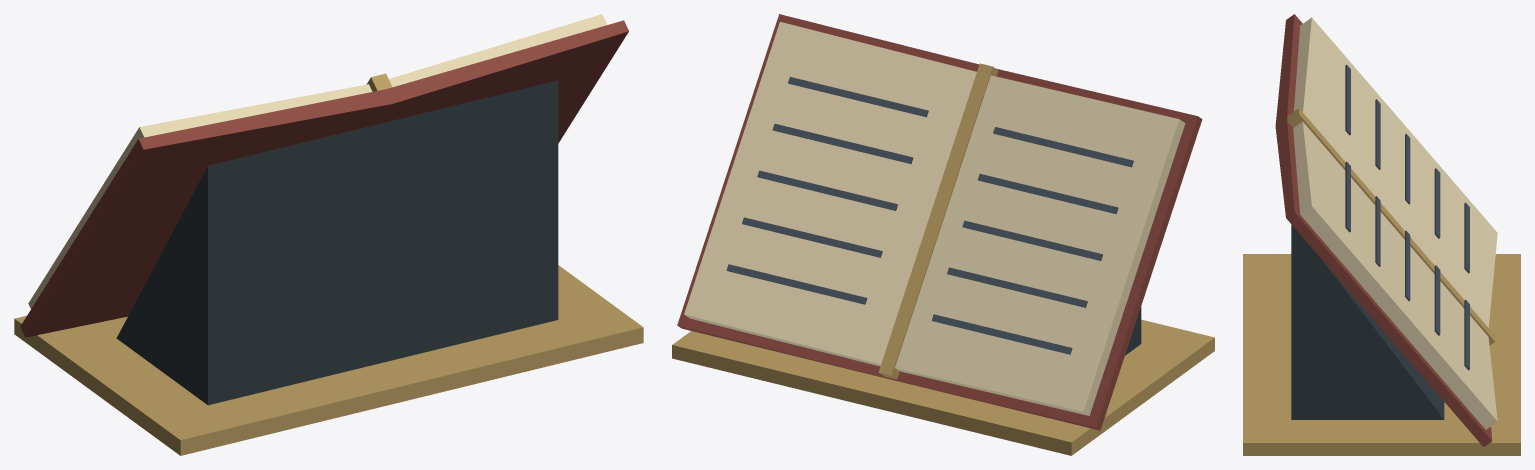
File: VIC_H05_OPEN_CHARTER_Roblox.fbx
3 renders of one model, left to right at view 1: azimuth 30°, elevation 25°; view 2: azimuth 150°, elevation 25°; view 3: azimuth 270°, elevation 25°, orthographic. The views are drawn at different scales.
Visible parts, largest first — view 1: VIC_H05_OPEN_CHARTER__Charcoal.001, VIC_H05_OPEN_CHARTER__Oxblood.001, VIC_H05_OPEN_CHARTER__Brass.001, VIC_H05_OPEN_CHARTER__Paper.001; view 2: VIC_H05_OPEN_CHARTER__Paper.001, VIC_H05_OPEN_CHARTER__Brass.001, VIC_H05_OPEN_CHARTER__Oxblood.001, VIC_H05_OPEN_CHARTER__Ink.001; view 3: VIC_H05_OPEN_CHARTER__Paper.001, VIC_H05_OPEN_CHARTER__Brass.001, VIC_H05_OPEN_CHARTER__Charcoal.001, VIC_H05_OPEN_CHARTER__Oxblood.001, VIC_H05_OPEN_CHARTER__Ink.001.
Part boxes in pixels (bbox=[...]): VIC_H05_OPEN_CHARTER__Charcoal.001: bbox=[116, 80, 558, 405]; VIC_H05_OPEN_CHARTER__Oxblood.001: bbox=[20, 20, 628, 337]; VIC_H05_OPEN_CHARTER__Brass.001: bbox=[14, 73, 643, 455]; VIC_H05_OPEN_CHARTER__Paper.001: bbox=[28, 14, 607, 308]; VIC_H05_OPEN_CHARTER__Paper.001: bbox=[684, 22, 1185, 415]; VIC_H05_OPEN_CHARTER__Brass.001: bbox=[672, 63, 1214, 455]; VIC_H05_OPEN_CHARTER__Oxblood.001: bbox=[677, 14, 1202, 430]; VIC_H05_OPEN_CHARTER__Ink.001: bbox=[726, 77, 1133, 354]; VIC_H05_OPEN_CHARTER__Paper.001: bbox=[1293, 17, 1497, 429]; VIC_H05_OPEN_CHARTER__Brass.001: bbox=[1243, 108, 1520, 455]; VIC_H05_OPEN_CHARTER__Charcoal.001: bbox=[1291, 224, 1444, 419]; VIC_H05_OPEN_CHARTER__Oxblood.001: bbox=[1275, 14, 1492, 446]; VIC_H05_OPEN_CHARTER__Ink.001: bbox=[1345, 65, 1469, 370].
Size of the model in its own units: 3.88 by 2.29 by 2.3.
